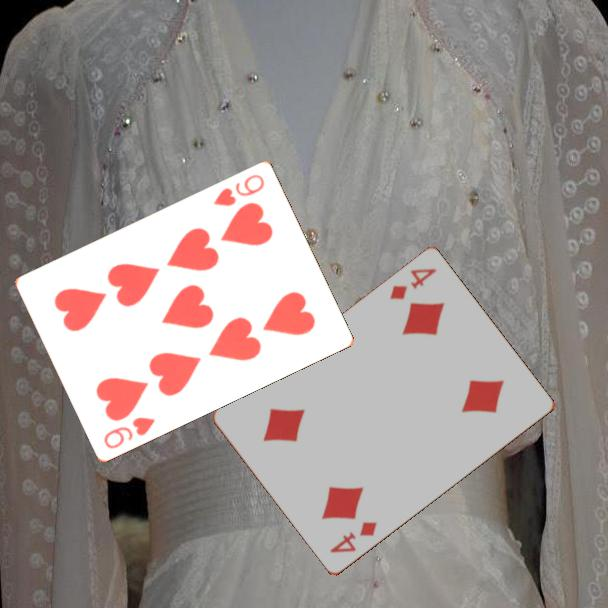d04: (326, 518, 380, 557), (386, 265, 439, 303)
h09: (210, 170, 268, 209), (100, 413, 158, 451)
